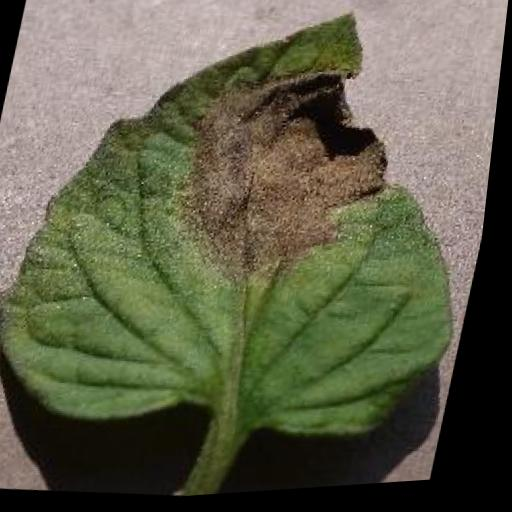Early Blight: (0, 0, 512, 469)
